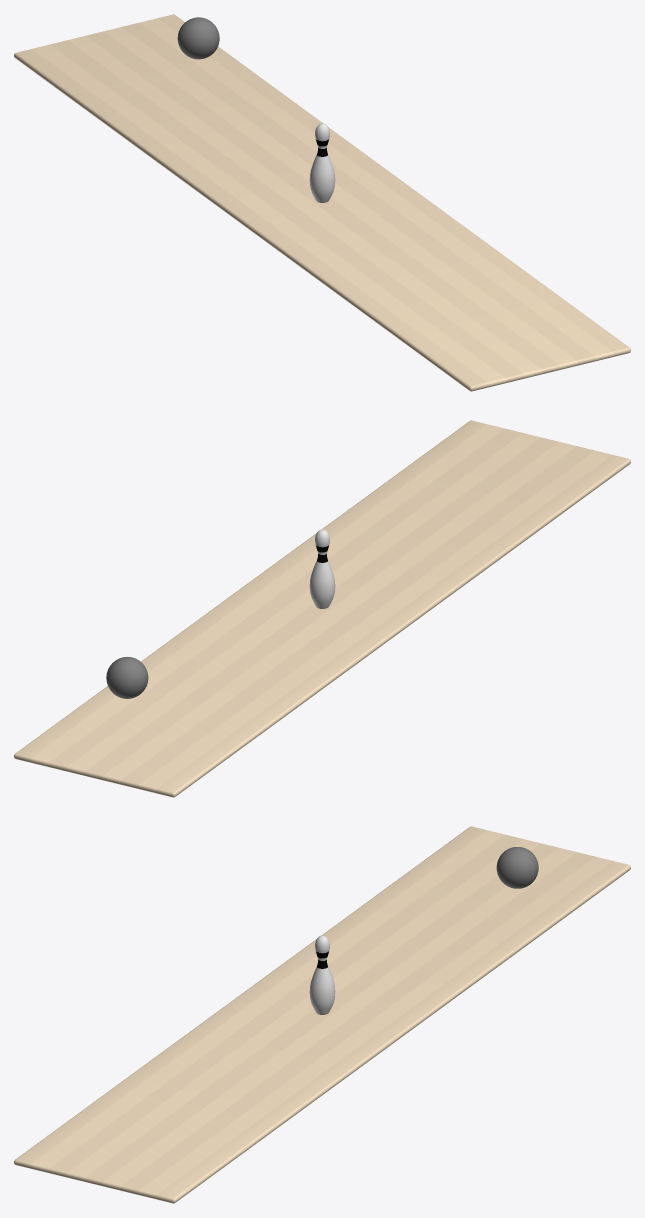
Rendered from bowling.glb.
3 views of the same model, one above another, from view 1: azimuth 30°, elevation 25°; view 2: azimuth 150°, elevation 25°; view 3: azimuth 330°, elevation 25° (orthographic).
Parts seen in each view (by area): view 1: Lane, Ball, Pin; view 2: Lane, Ball, Pin; view 3: Lane, Ball, Pin.
Boxes of the visible parts, x1,y1,x2,y2 form: Lane: (14,14,630,391); Ball: (177,17,219,59); Pin: (309,123,335,202); Lane: (14,420,630,797); Ball: (106,657,148,698); Pin: (309,529,335,608); Lane: (14,826,630,1203); Ball: (496,847,538,888); Pin: (309,935,335,1014).
Bounding box in the file's own units: 1.02 × 0.4908 × 4.98.
